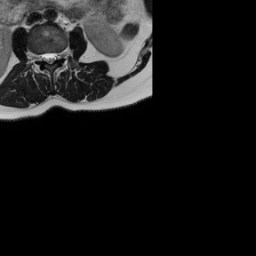CCS_normal: (46, 48, 52, 67)
LFS_normal: (57, 47, 63, 62)
LLS_normal: (52, 47, 57, 64)
RFS_normal: (35, 49, 42, 64)
RLS_normal: (42, 48, 47, 65)
